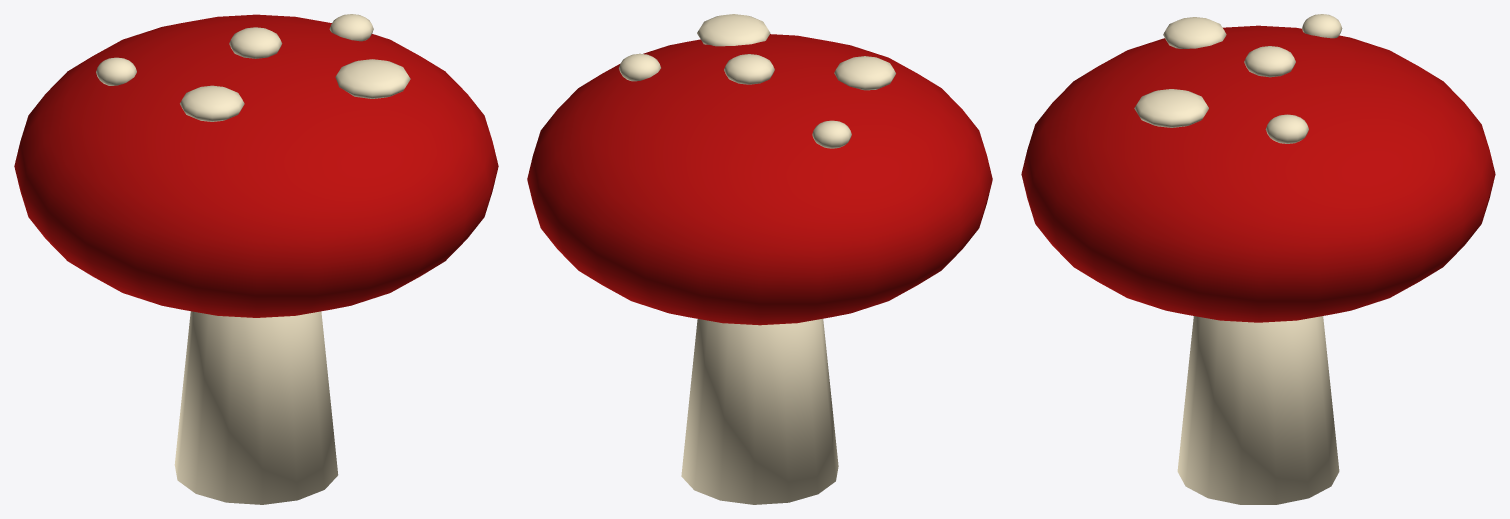
Rendered from mushroom.glb.
The picture shows the model from 3 angles, left to right: view 1: azimuth 30°, elevation 25°; view 2: azimuth 150°, elevation 25°; view 3: azimuth 270°, elevation 25°; orthographic projection. The views are drawn at different scales.
Visible parts, largest first — view 1: mushroom; view 2: mushroom; view 3: mushroom.
Part boxes in pixels (x1,y1,x2,y2): mushroom: (14, 14, 498, 504); mushroom: (527, 14, 992, 504); mushroom: (1021, 14, 1495, 504).
Size of the model in its own units: 1 by 0.9862 by 1.
1 material, 1 textured.
